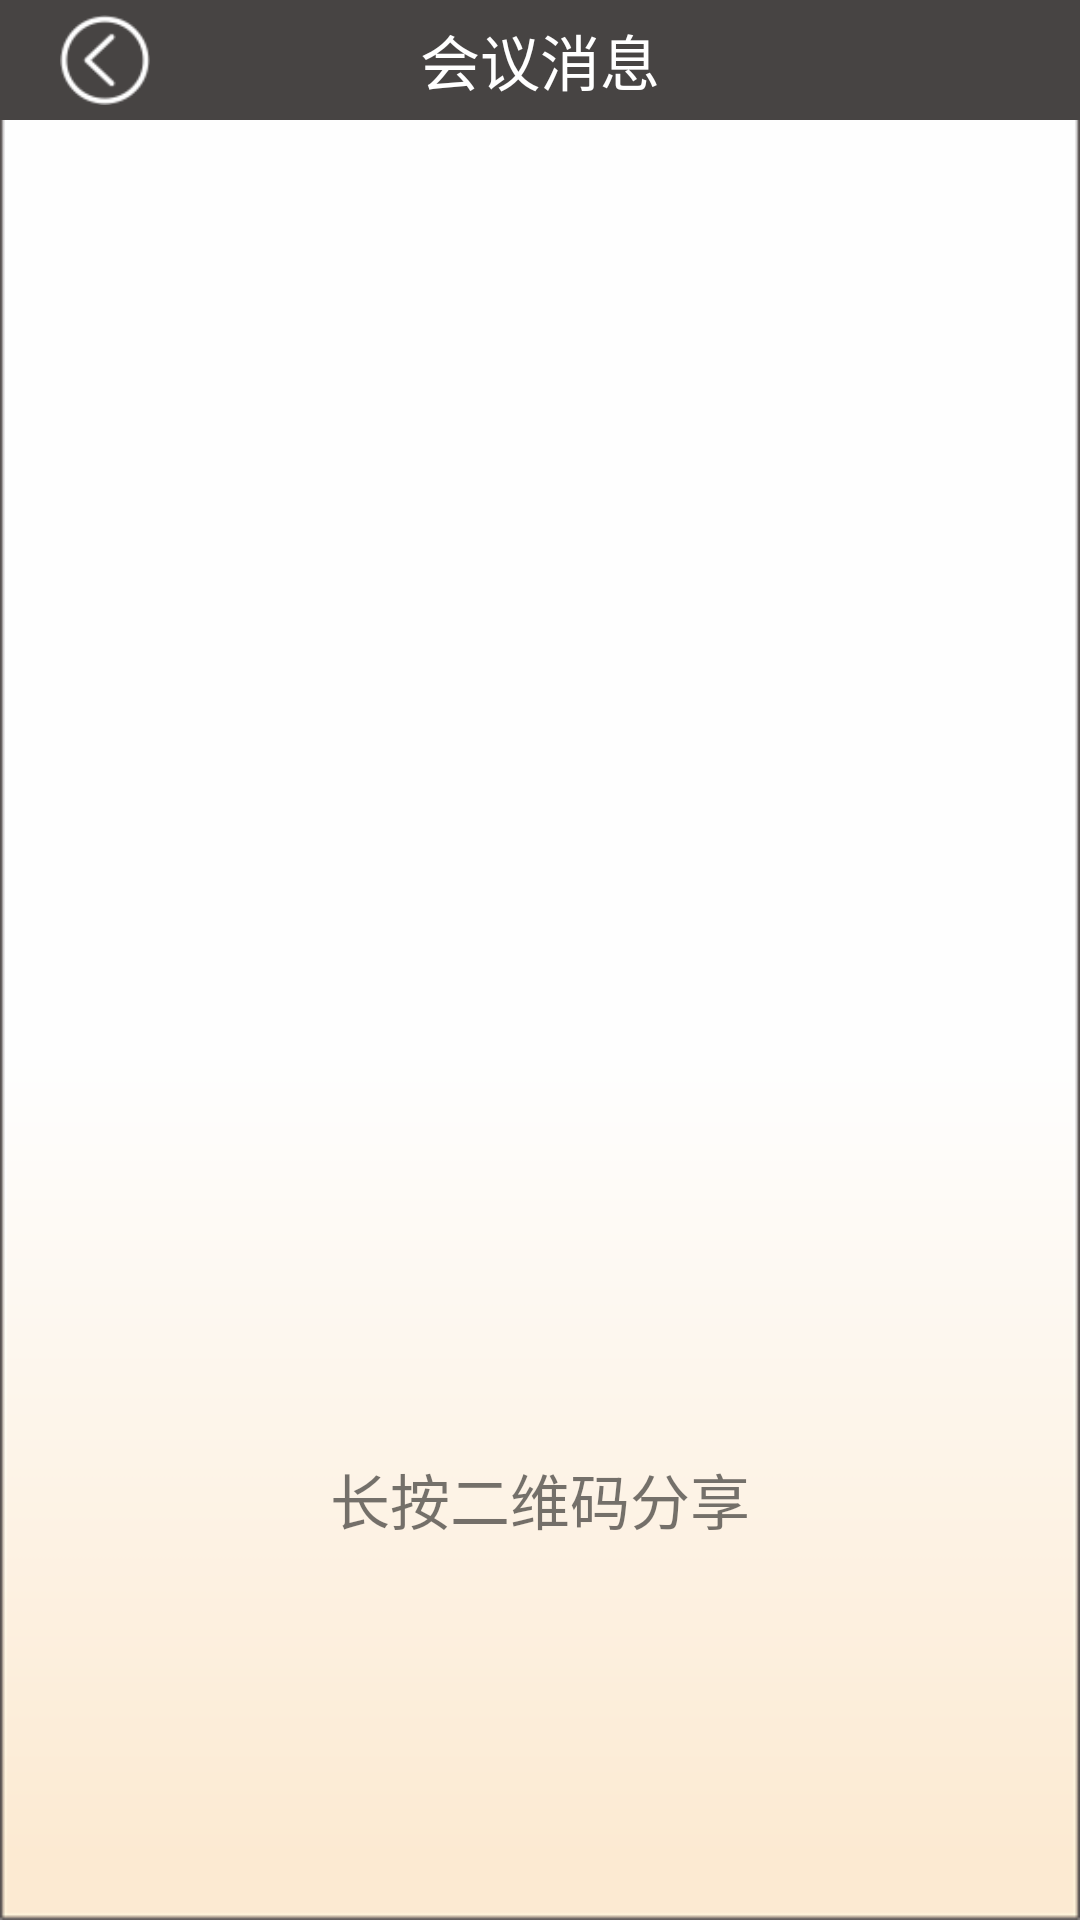

Icon click points for this 1080x1920 phone screenshot, format [x,y]:
goback: [105,60]
